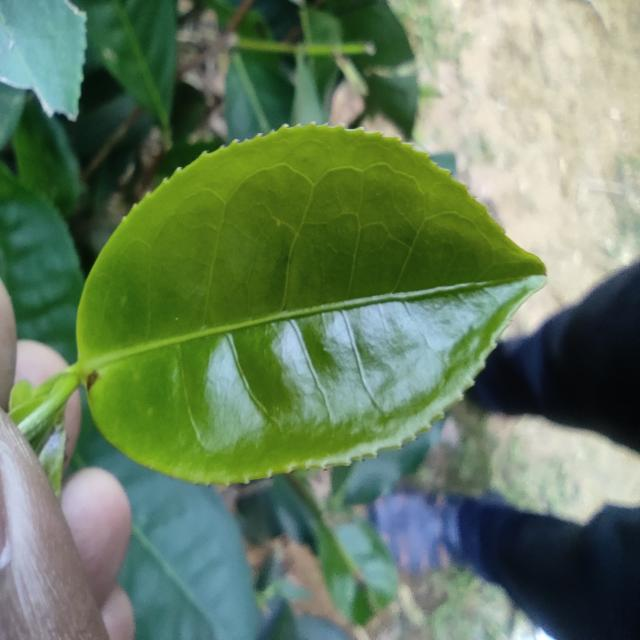Category C(4-7 days): (35, 99, 555, 506)
